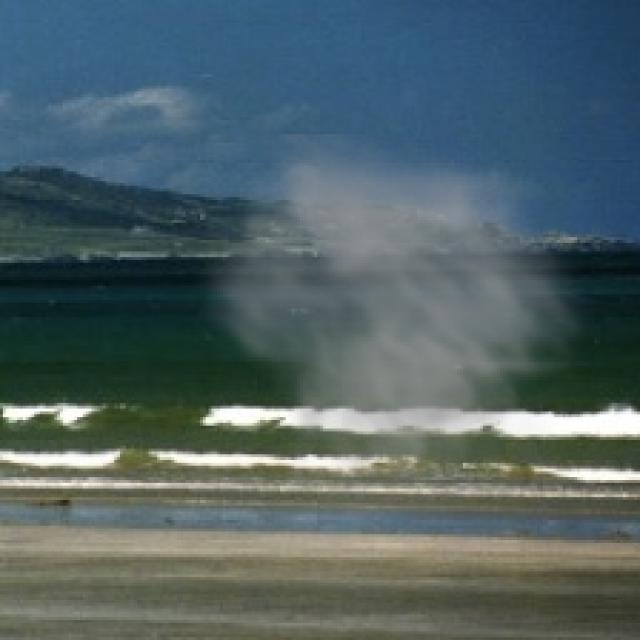smoke: (186, 134, 600, 517)
